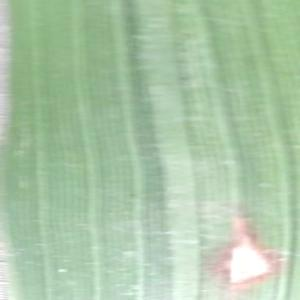1 RiceBlast: (206, 198, 284, 291)
